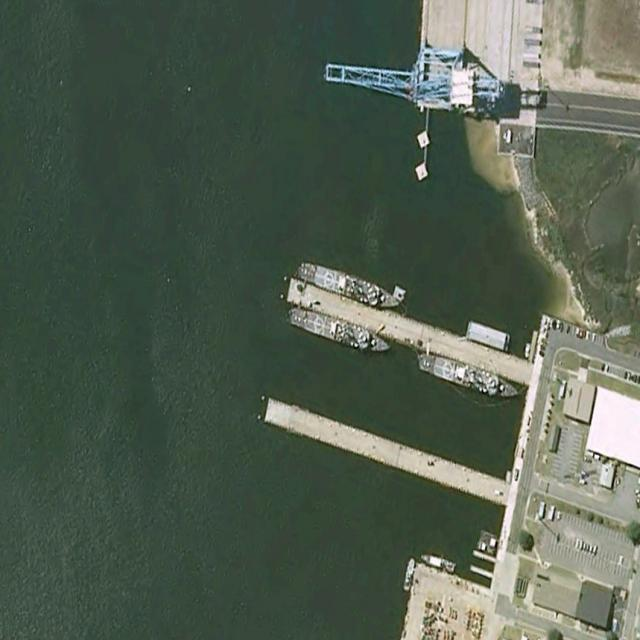Other Ship: (415, 347, 522, 406), (296, 258, 402, 313), (287, 303, 393, 358)
